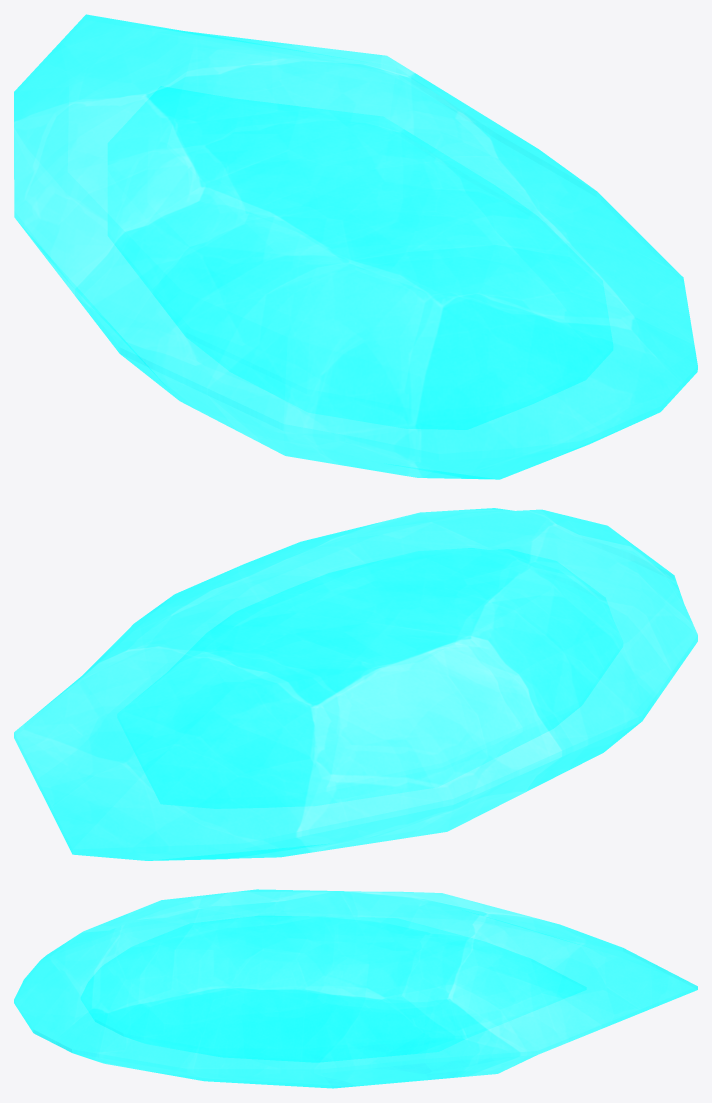
Rendered from Item_Energy_Crystall.glb.
3 views of the same model, one above another, from view 1: azimuth 30°, elevation 25°; view 2: azimuth 150°, elevation 25°; view 3: azimuth 270°, elevation 25° (orthographic). The views are drawn at different scales.
Parts seen in each view (by area): view 1: Item_Energy_Crystall; view 2: Item_Energy_Crystall; view 3: Item_Energy_Crystall.
Part boxes in pixels (x1,y1,x2,y2): Item_Energy_Crystall: [14, 14, 697, 479]; Item_Energy_Crystall: [14, 508, 697, 860]; Item_Energy_Crystall: [14, 889, 697, 1088].
Size of the model in its own units: 0.4942 by 0.1849 by 0.8718.
1 material, 1 textured.
